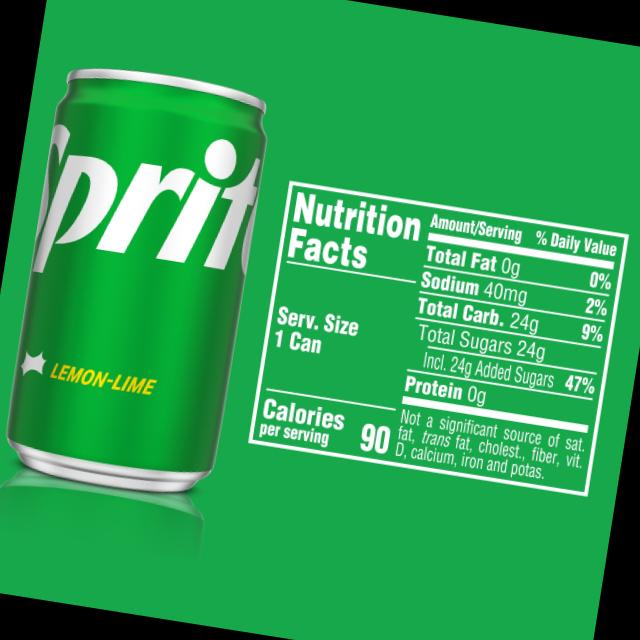sprite: (0, 58, 323, 548)
